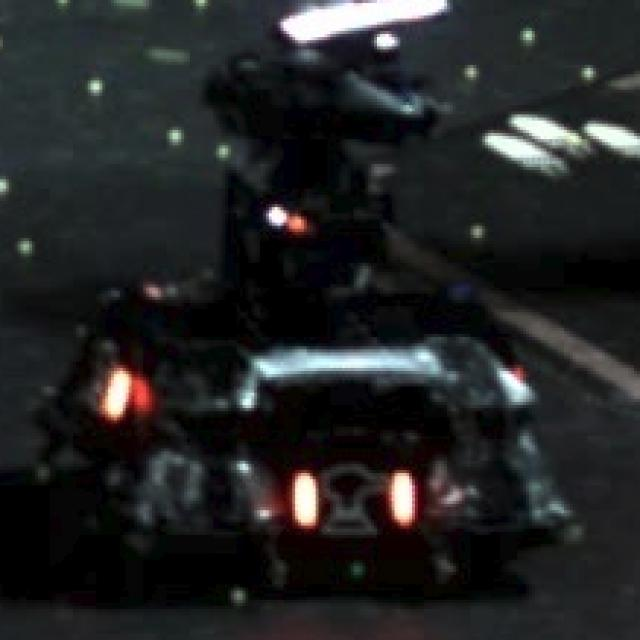Rs: (295, 461, 415, 538)
